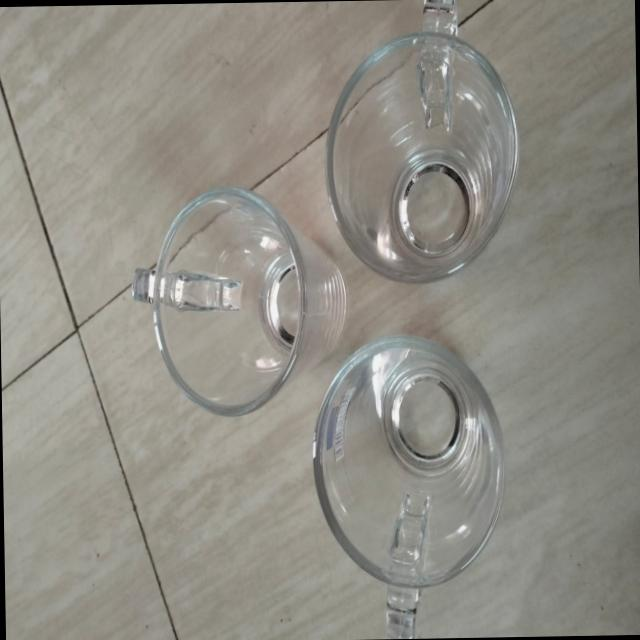glass-VX4N: (310, 334, 512, 640), (323, 0, 522, 292), (130, 184, 348, 420)
